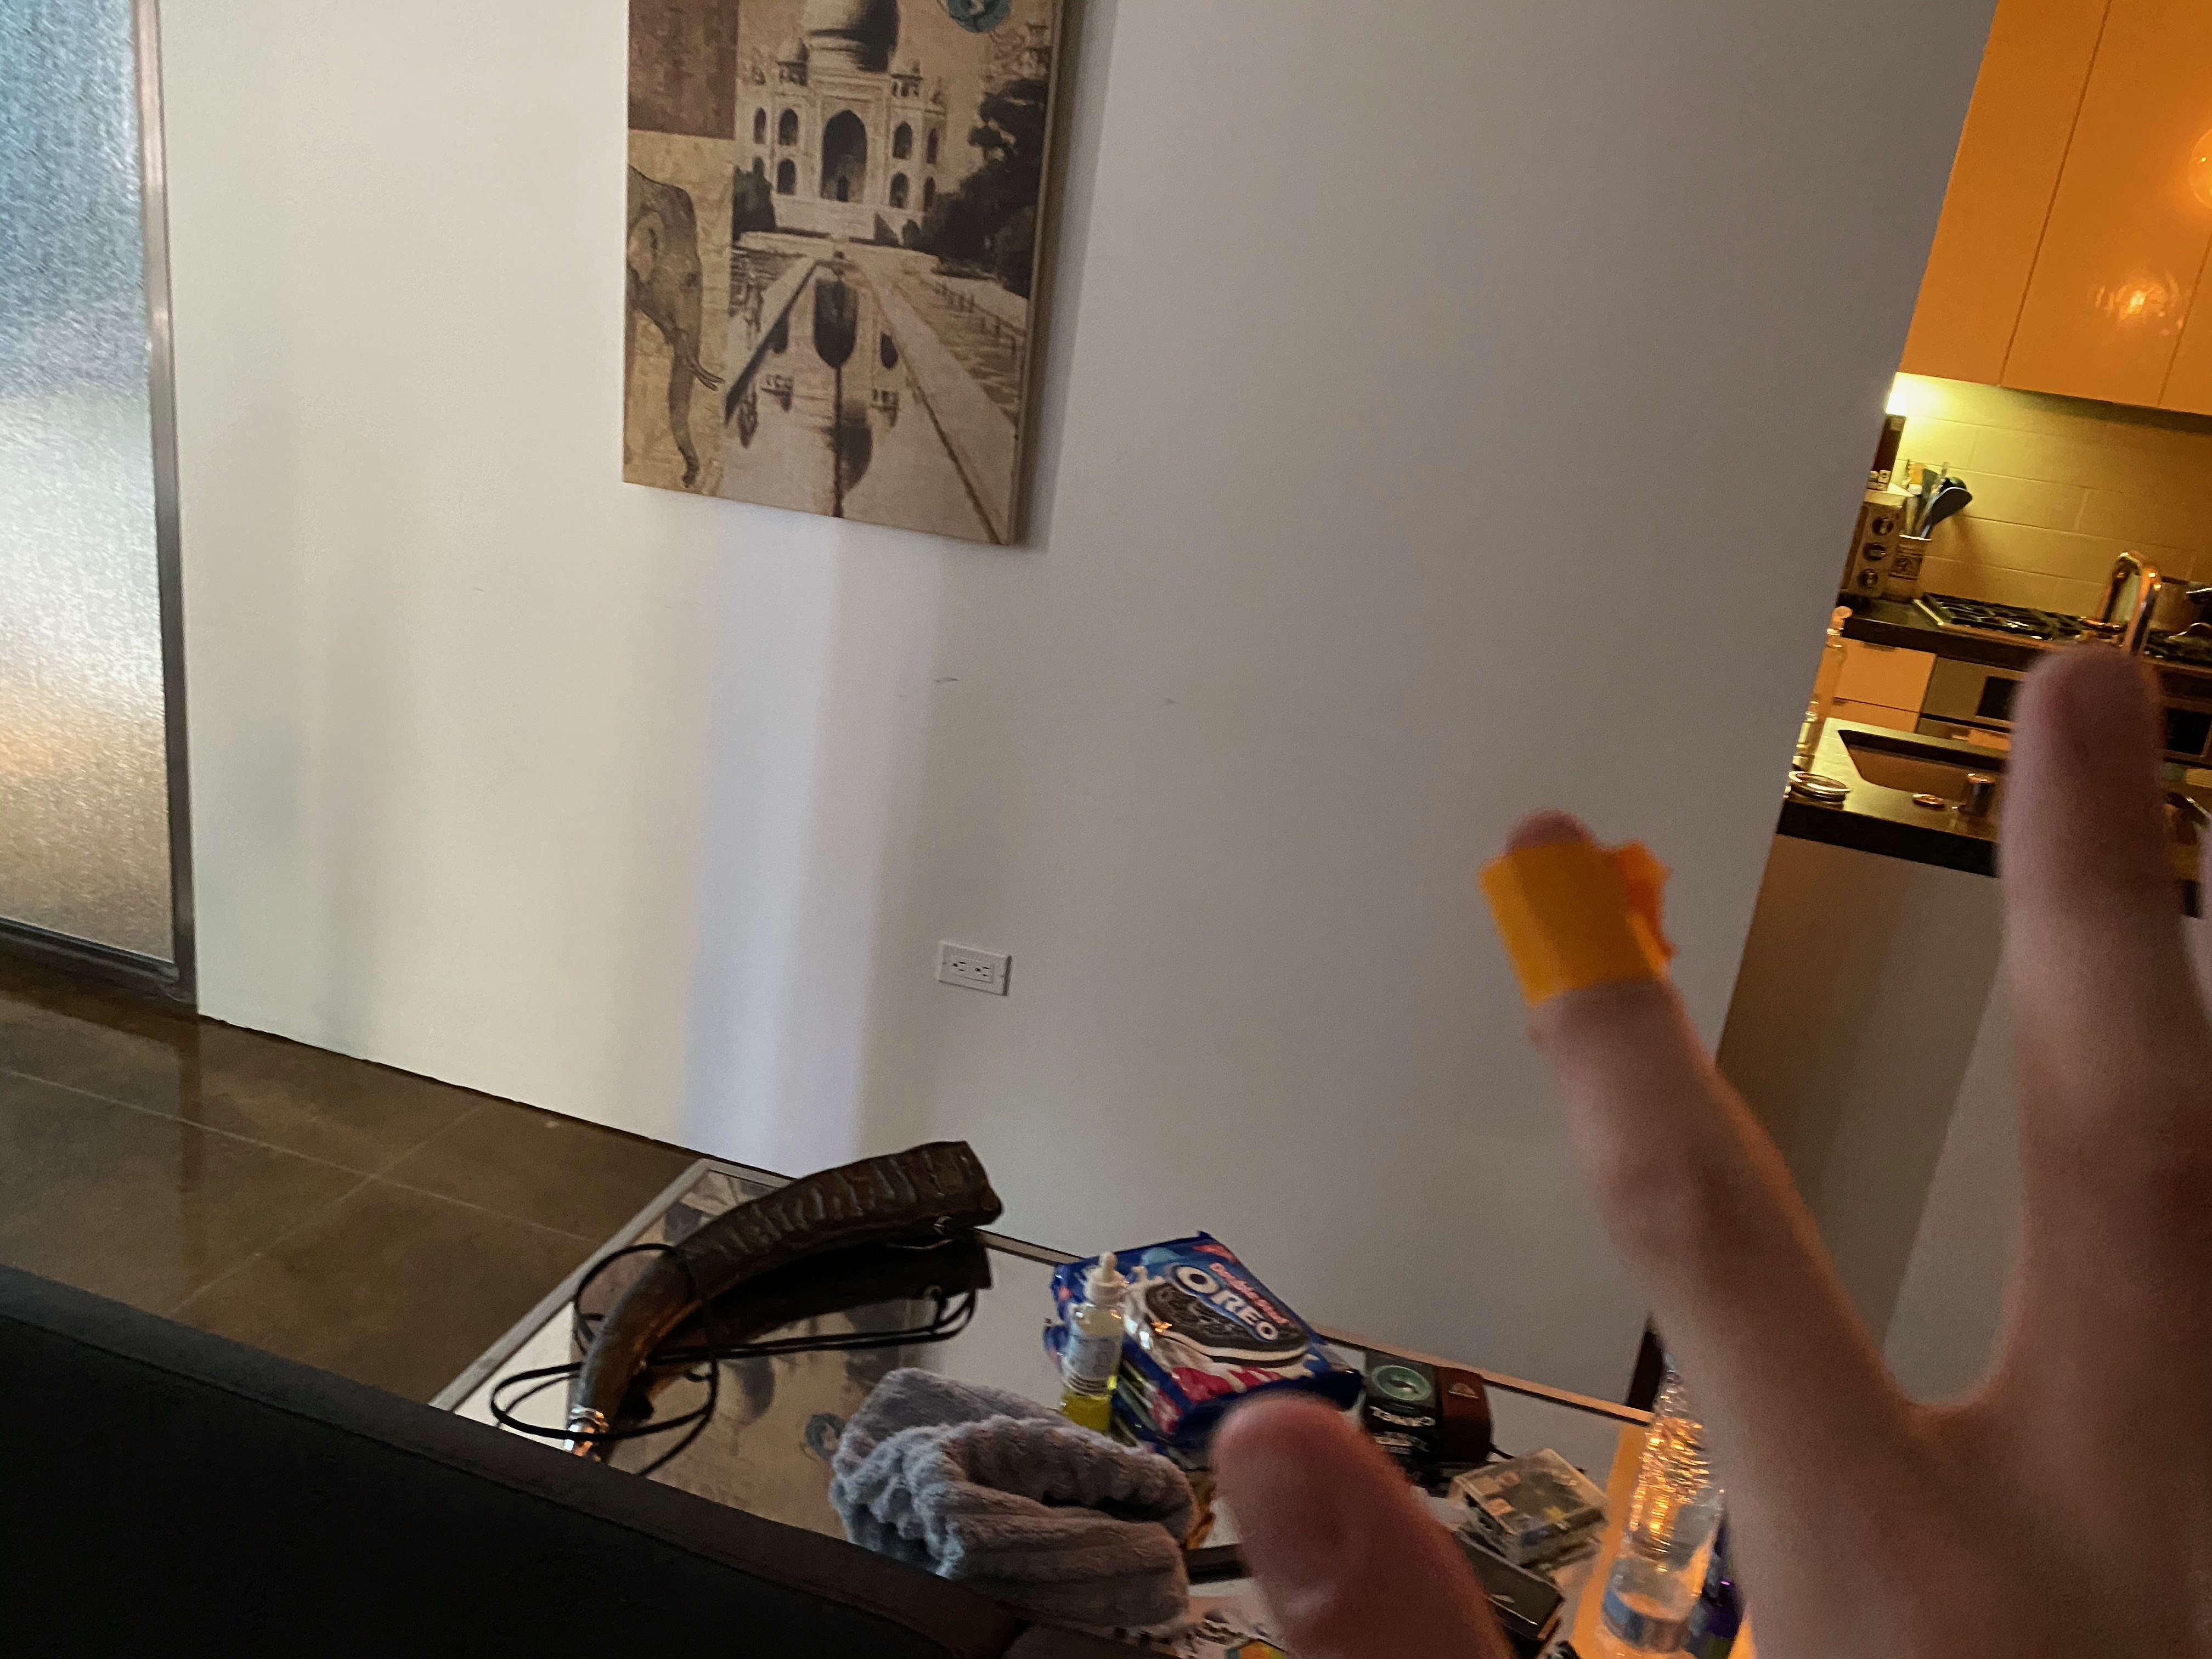fingertip: (1449, 805, 1733, 1075)
